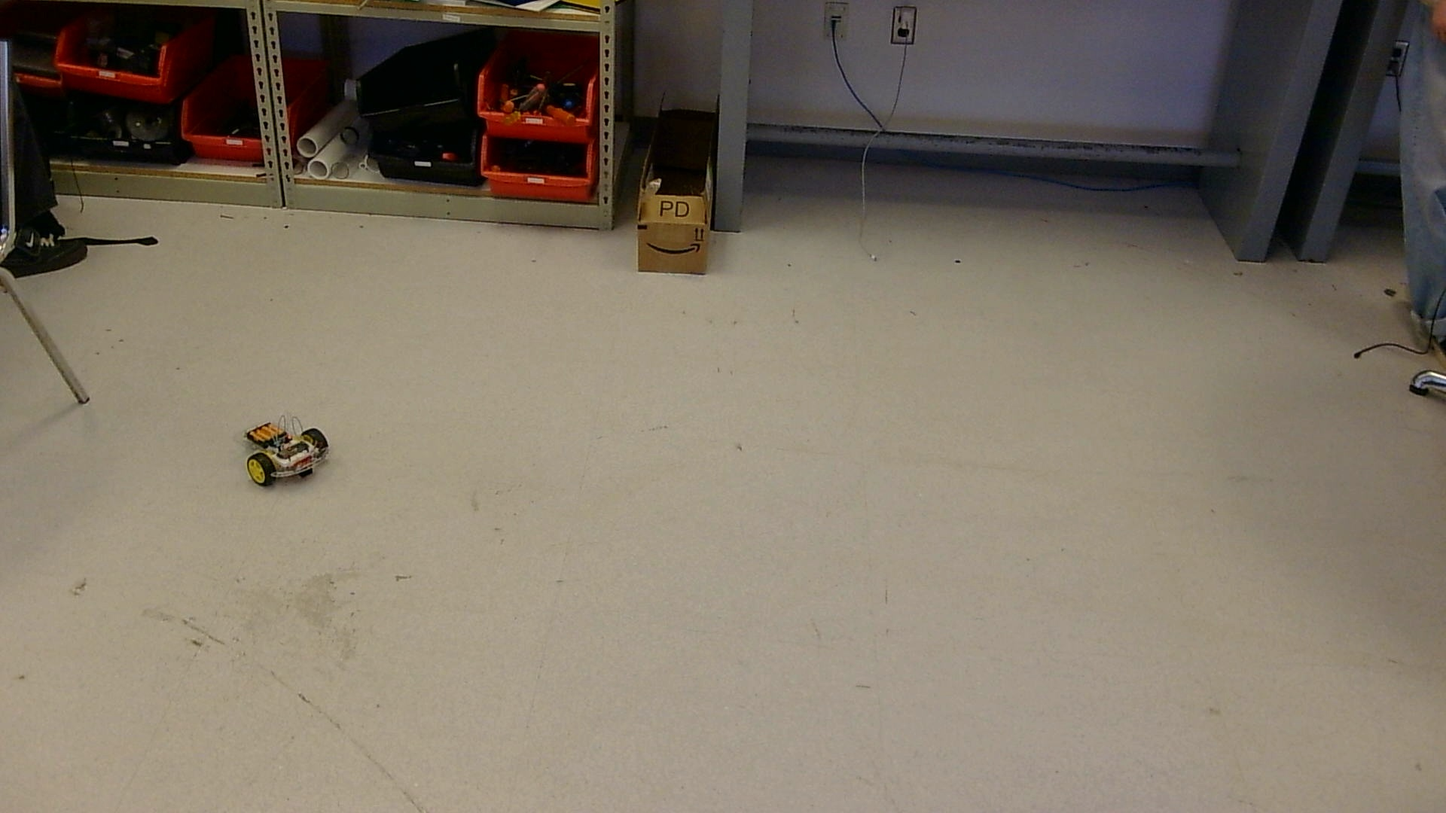robot: (246, 422, 329, 486)
